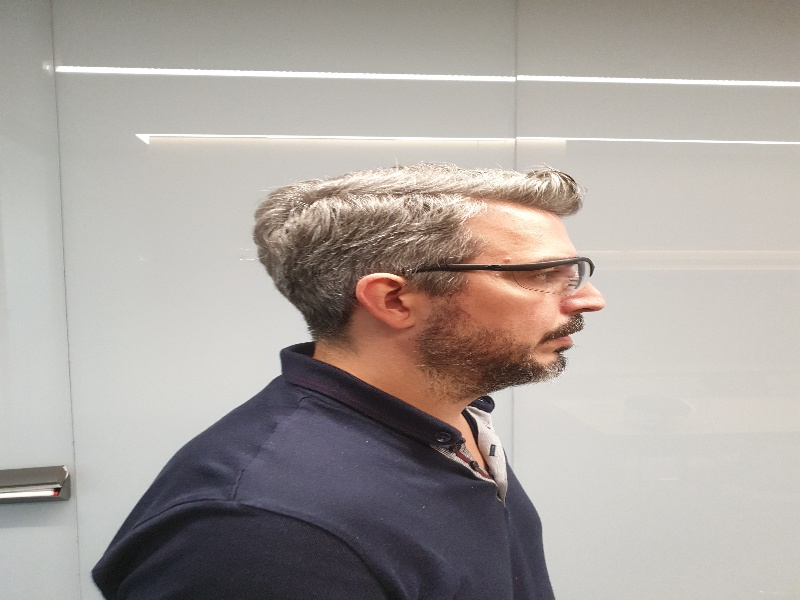Gozluk: (429, 256, 595, 290)
